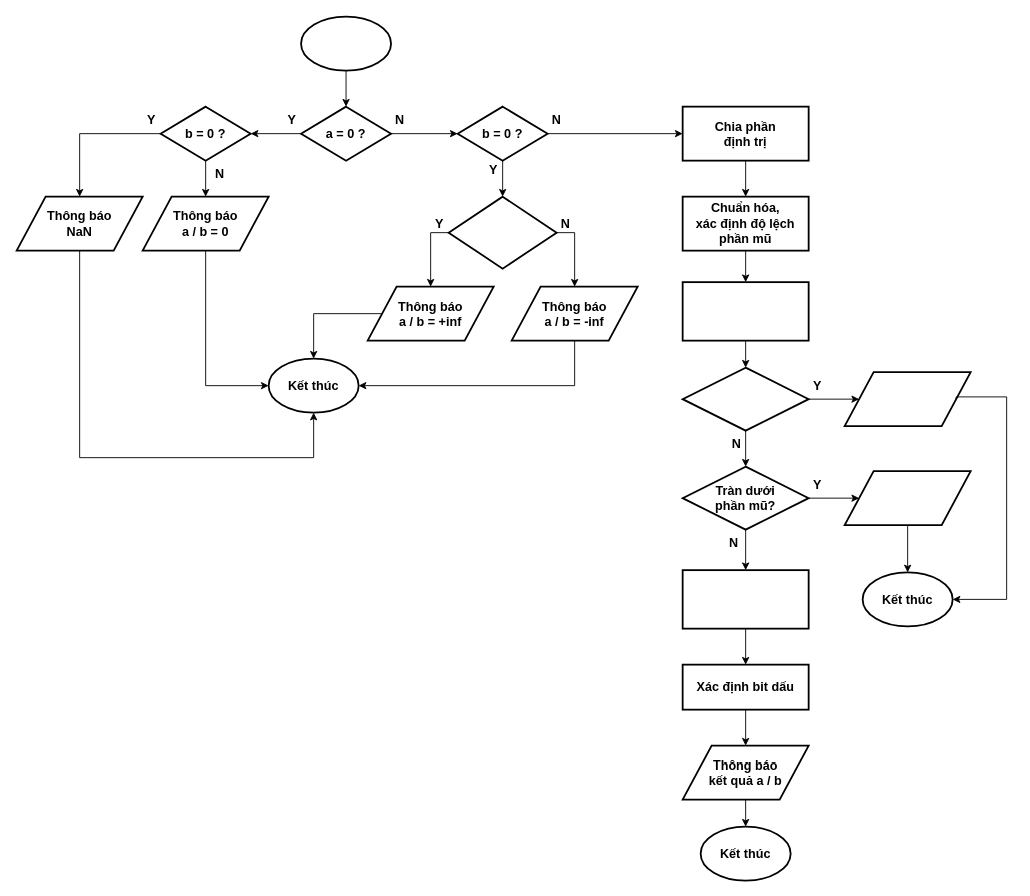
Some shapes in this 1030 by 896 pixel diagram are drawn without their labels. Here are the shapes that lost their labels. From the top down, the centre of each, then its label:
At point (346, 43): "Bắt đầu".
At point (502, 232): "a và b cùng dấu ?".
At point (745, 311): "Trừ phần mũ, cộng với độ lệch".
At point (745, 398): "Tràn trên phần mũ?".
At point (907, 399): "Thông báo tràn trên".
At point (907, 498): "Thông báo tràn dưới".
At point (745, 599): "Kết hợp phần định trị và phần mũ".
